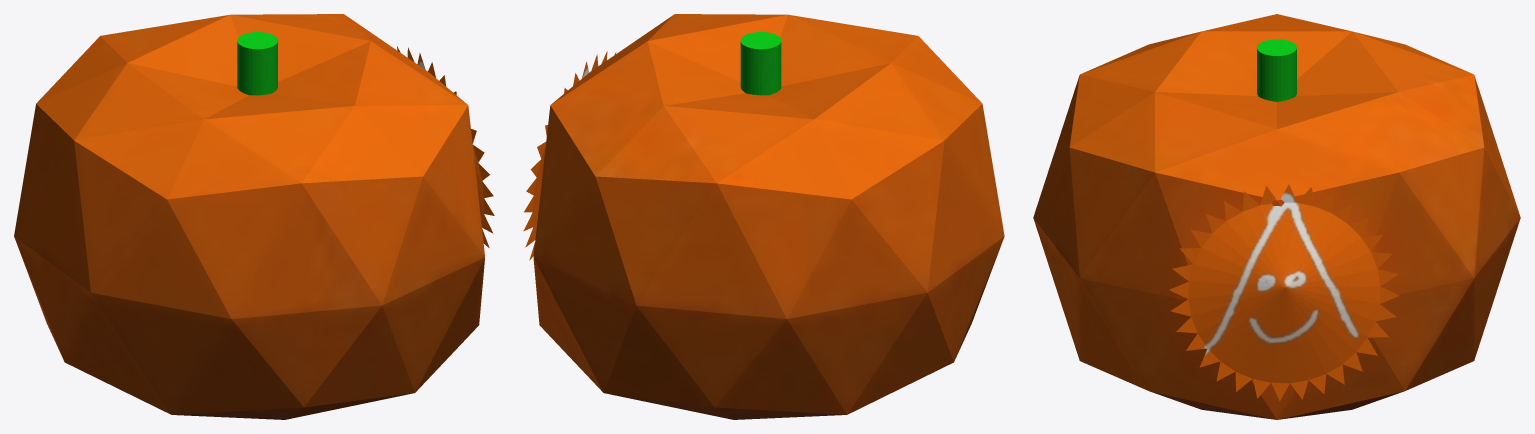
File: alt-pumkin6.dae
3 views of the same model, side by side, from view 1: azimuth 30°, elevation 25°; view 2: azimuth 150°, elevation 25°; view 3: azimuth 270°, elevation 25° (orthographic). The views are drawn at different scales.
Parts seen in each view (by area): view 1: Icosphere; view 2: Icosphere; view 3: Icosphere.
Part boxes in pixels (bbox=[...]): Icosphere: bbox=[14, 14, 494, 419]; Icosphere: bbox=[523, 14, 1004, 419]; Icosphere: bbox=[1033, 14, 1520, 419].
Bounding box in the file's own units: 0.1832 × 0.1976 × 0.1442.
Materials: 1 (1 with a texture image).
